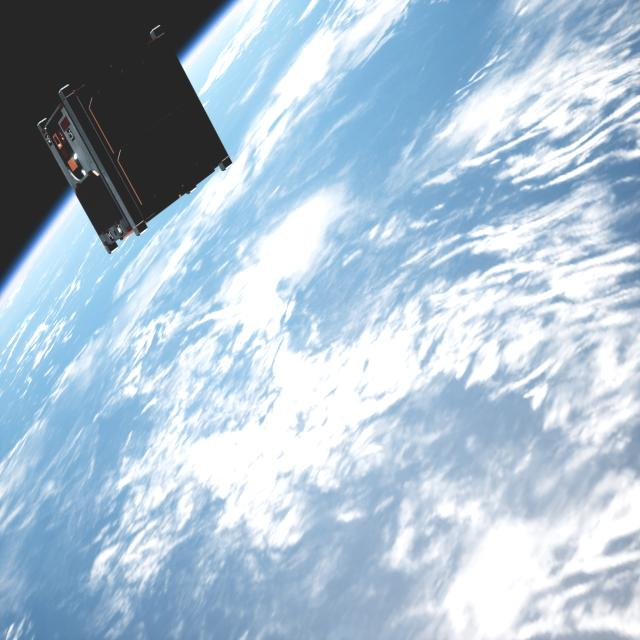medium_debris: (29, 12, 227, 252)
